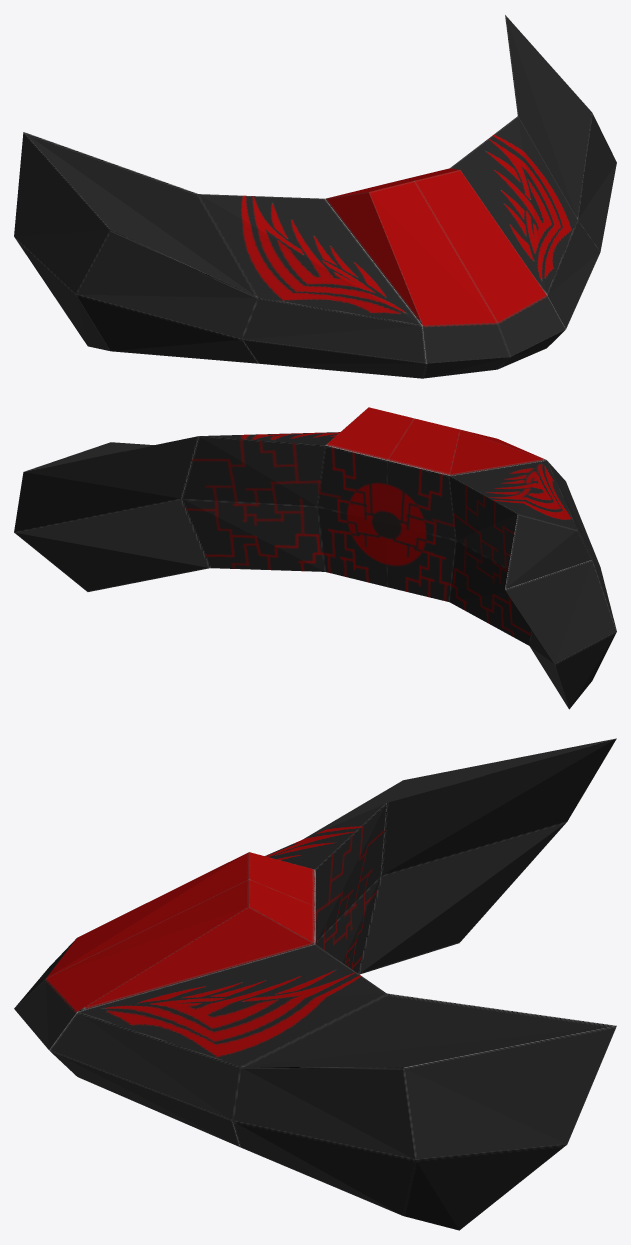
The model's file is supernave2.obj.
The picture shows the model from 3 angles, top to bottom: view 1: azimuth 30°, elevation 25°; view 2: azimuth 150°, elevation 25°; view 3: azimuth 270°, elevation 25°; orthographic projection. The views are drawn at different scales.
Parts seen in each view (by area): view 1: Cube; view 2: Cube; view 3: Cube.
Part boxes in pixels (<box>): Cube: <box>14,15,616,378</box>; Cube: <box>14,407,616,709</box>; Cube: <box>14,738,616,1230</box>.
Bounding box in the file's own units: 2.11 × 0.6314 × 1.66.
